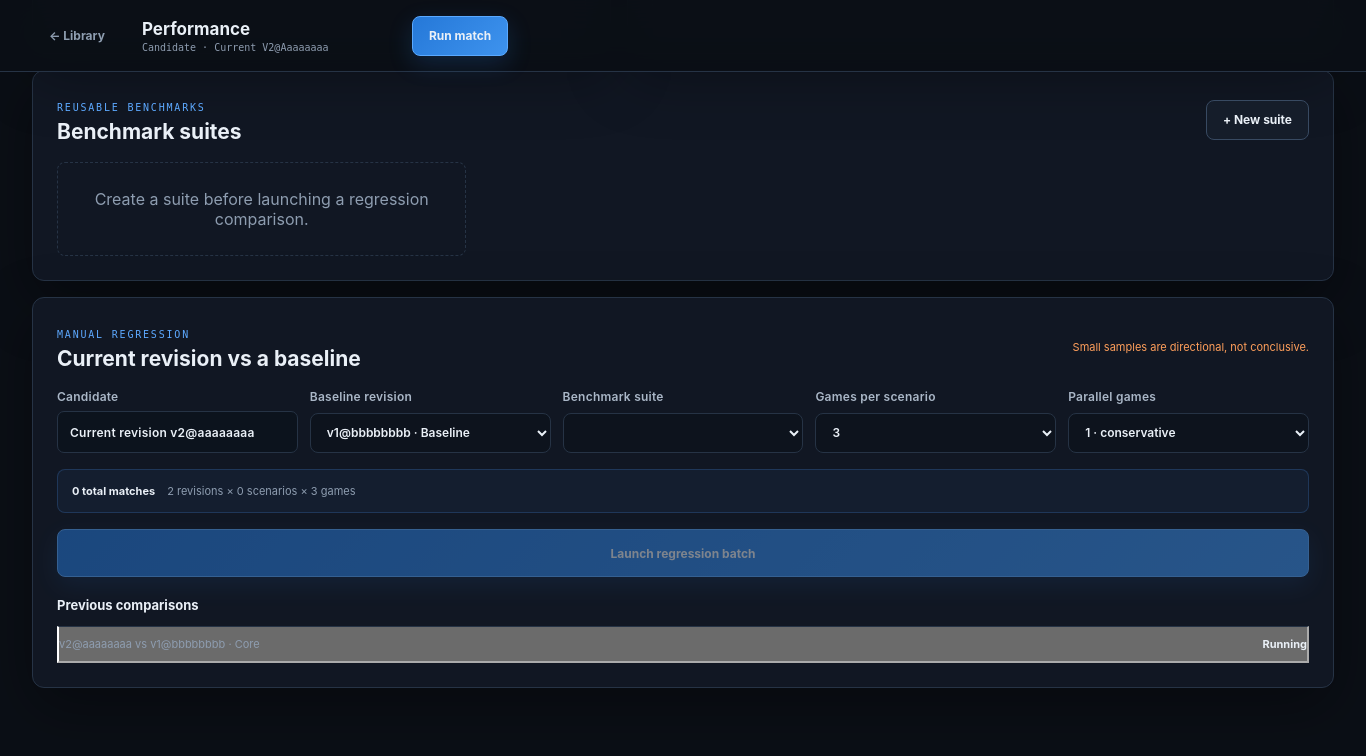
Test case: StatsPage › polls a regression until completed with failures after its event stream fails
This screenshot has width=1366, height=756.
(page scrolled)
Click the text "v2@aaaaaaaa vs v1@bbbbbbbb · Core". click: [159, 644]
box: x1=59 y1=637 x2=260 y2=651
Wait 6000 ms
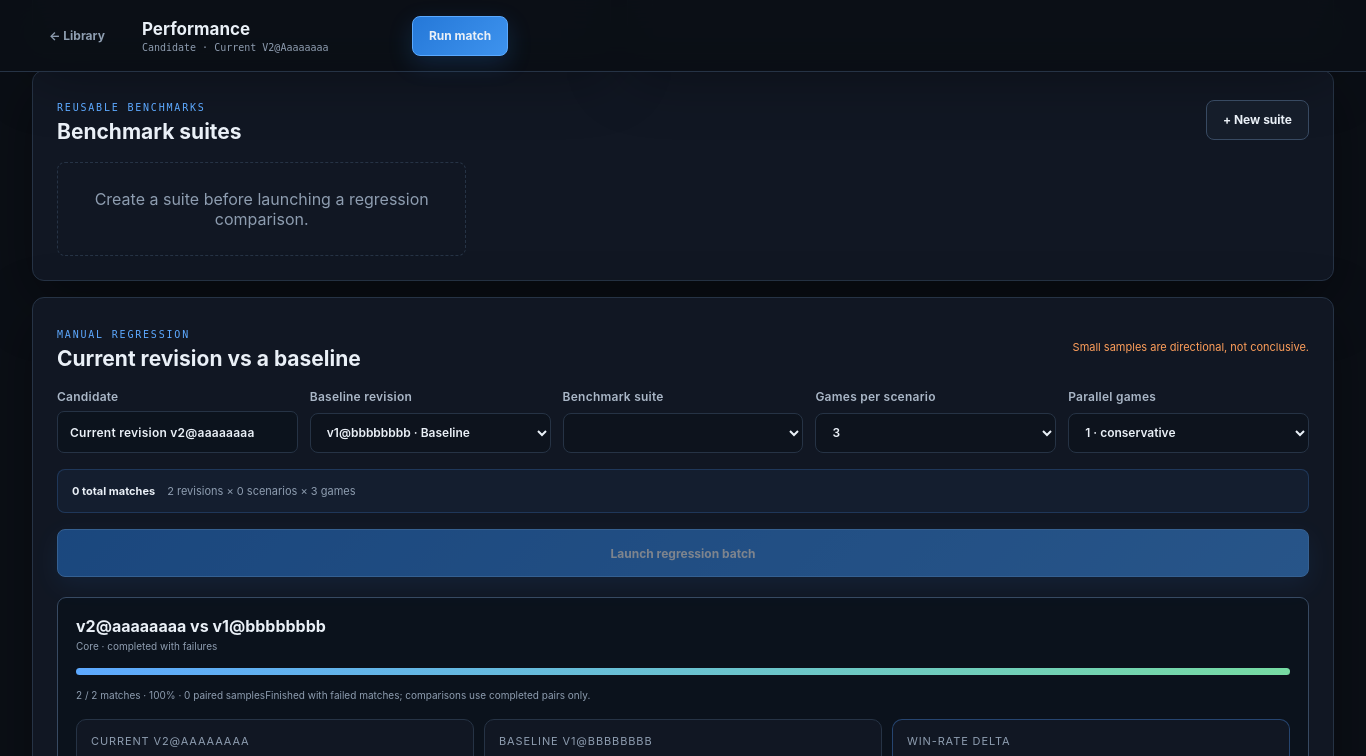
Expected: the text "v2@aaaaaaaa vs v1@bbbbbbbb" is shown, x1=76 y1=616 x2=326 y2=636
Expected: the text "Core · completed with failures" is shown, x1=76 y1=640 x2=217 y2=652
Expected: the message reads "Finished with failed matches; comparisons use completed pairs only.", x1=265 y1=689 x2=590 y2=701
